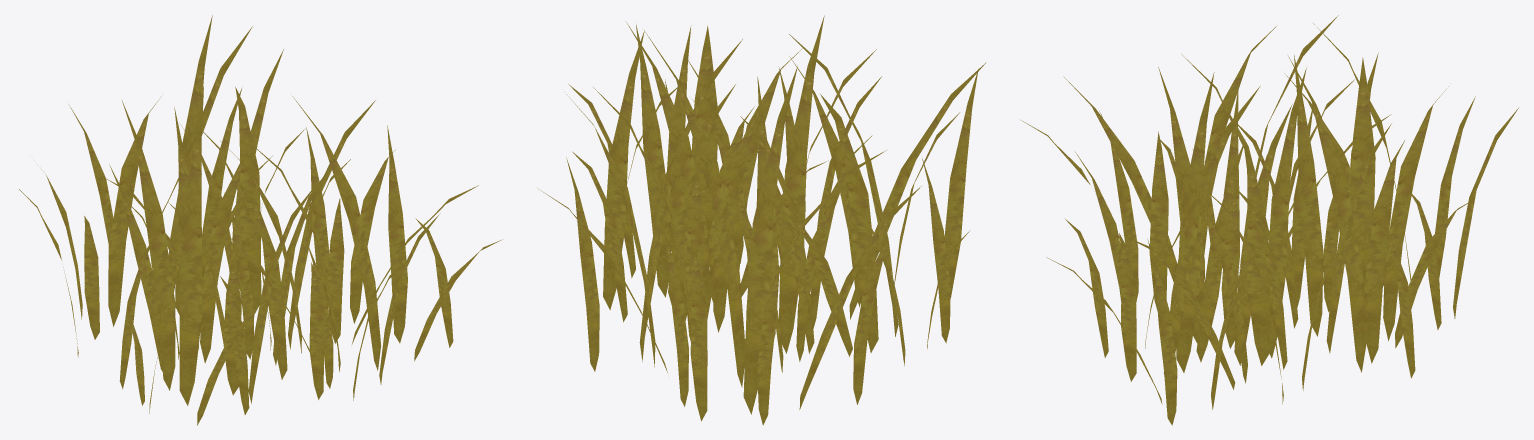
Rendered from SM_GrassClump01.glb.
The picture shows the model from 3 angles, left to right: view 1: azimuth 30°, elevation 25°; view 2: azimuth 150°, elevation 25°; view 3: azimuth 270°, elevation 25°; orthographic projection. The views are drawn at different scales.
Parts seen in each view (by area): view 1: SM_GrassClump01_LOD0; view 2: SM_GrassClump01_LOD0; view 3: SM_GrassClump01_LOD0.
Boxes of the visible parts, bbox=[...] form: SM_GrassClump01_LOD0: bbox=[19, 15, 502, 425]; SM_GrassClump01_LOD0: bbox=[539, 15, 986, 425]; SM_GrassClump01_LOD0: bbox=[1021, 15, 1518, 425].
Size of the model in its own units: 1.09 by 0.8738 by 1.26.
Materials: 1 (1 with a texture image).
